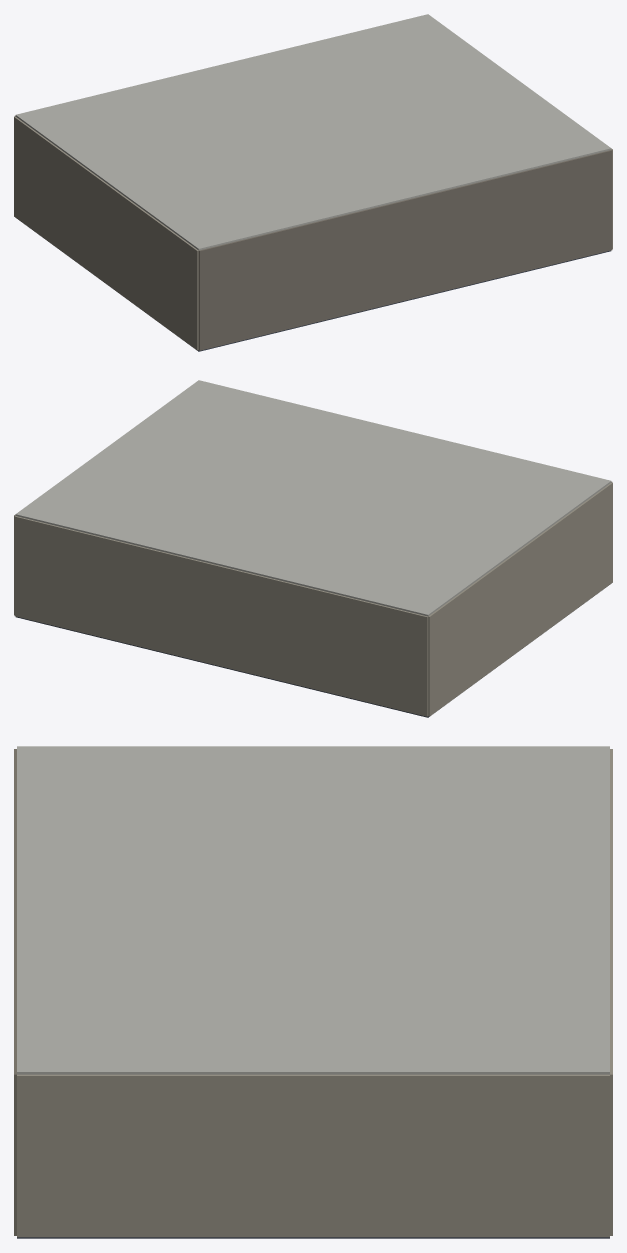
The model's file is mission_control.glb.
3 renders of one model, top to bottom at view 1: azimuth 30°, elevation 25°; view 2: azimuth 150°, elevation 25°; view 3: azimuth 270°, elevation 25°, orthographic. The views are drawn at different scales.
Parts seen in each view (by area): view 1: model; view 2: model; view 3: model.
Boxes of the visible parts, left/top/right/bottom form: model: left=14, top=14, right=612, bottom=351; model: left=14, top=380, right=612, bottom=717; model: left=14, top=746, right=612, bottom=1238.
Bounding box in the file's own units: 26.2 × 6.2 × 20.2.
Materials: 2 (2 with a texture image).
